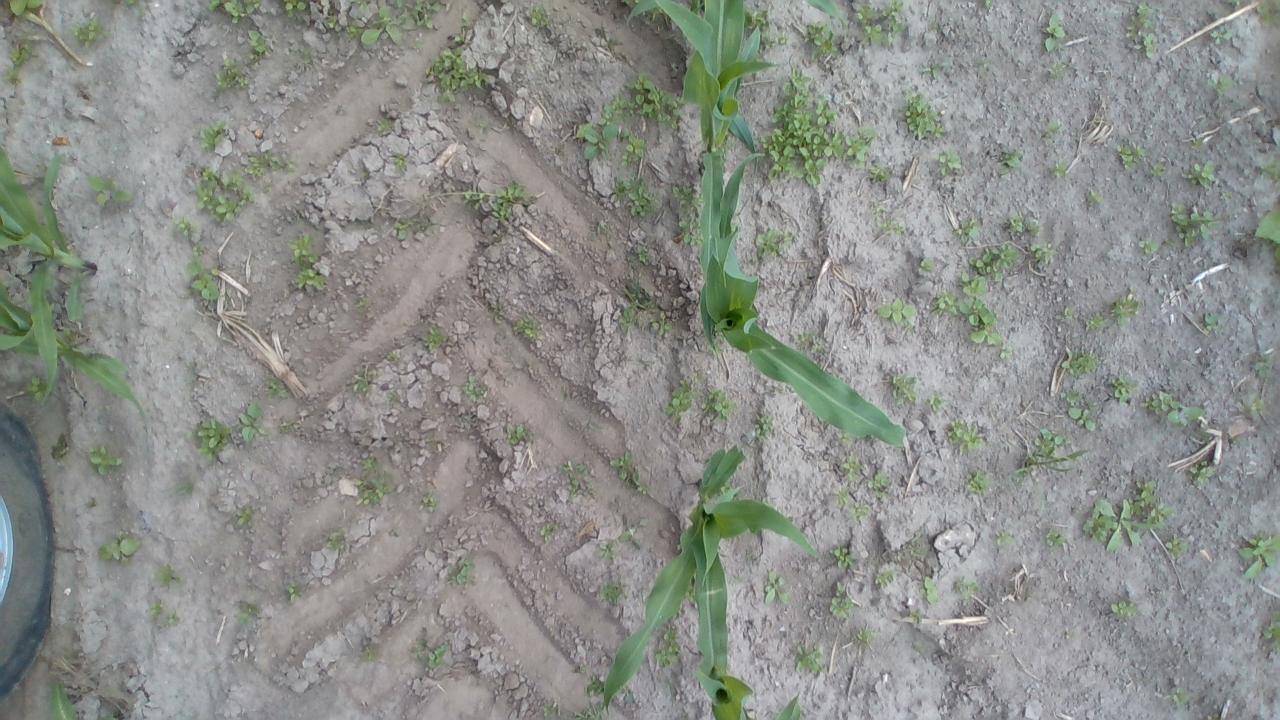Maize: (701, 146, 914, 454), (588, 443, 822, 720), (621, 1, 774, 362), (0, 138, 98, 395), (0, 286, 155, 432), (688, 657, 823, 720), (41, 680, 93, 720)
Weeds: (754, 66, 872, 184), (1084, 473, 1174, 552), (934, 274, 1018, 356), (316, 0, 443, 49), (576, 91, 650, 168), (424, 42, 496, 104), (1009, 426, 1088, 479), (456, 175, 540, 222), (193, 165, 257, 225), (626, 72, 682, 134), (618, 284, 675, 344), (846, 0, 911, 51), (348, 452, 403, 510), (966, 234, 1022, 288), (1164, 198, 1220, 251), (284, 234, 330, 296), (800, 16, 854, 68), (608, 172, 662, 224), (1146, 388, 1212, 430), (212, 59, 268, 108), (1127, 1, 1169, 66), (666, 180, 702, 250), (900, 92, 947, 142), (608, 450, 654, 501), (739, 7, 790, 52), (535, 696, 627, 720), (1238, 530, 1280, 580), (94, 528, 144, 569), (84, 174, 136, 212), (663, 376, 702, 426), (750, 222, 796, 264), (191, 418, 235, 461), (243, 150, 298, 184), (188, 258, 225, 308), (1252, 200, 1280, 266), (943, 415, 990, 454), (882, 370, 924, 413), (1062, 388, 1100, 435), (2, 38, 38, 87), (232, 400, 268, 448), (409, 637, 456, 673), (556, 457, 597, 498), (701, 384, 741, 426), (1055, 347, 1101, 382), (790, 640, 830, 680), (197, 120, 239, 158), (202, 0, 268, 24), (1177, 160, 1222, 195), (886, 534, 934, 566), (68, 12, 110, 48), (415, 323, 455, 360), (1036, 13, 1070, 56), (826, 580, 860, 622), (870, 204, 910, 239), (1244, 347, 1280, 385), (649, 628, 681, 670), (90, 446, 129, 480), (878, 294, 919, 326), (990, 146, 1026, 182), (1004, 212, 1046, 242), (1038, 113, 1070, 152), (744, 413, 784, 444), (1206, 17, 1240, 53), (322, 526, 358, 560), (505, 314, 545, 344), (1026, 240, 1059, 276), (446, 556, 479, 592), (761, 568, 790, 608), (1130, 232, 1178, 256), (392, 213, 434, 240), (935, 144, 966, 180), (246, 30, 277, 66), (1108, 295, 1141, 328), (1112, 141, 1144, 175), (962, 463, 992, 499), (798, 329, 830, 362), (1140, 150, 1171, 184), (1042, 58, 1076, 88), (260, 374, 294, 404), (618, 516, 646, 552), (1108, 374, 1140, 405), (618, 241, 650, 272), (349, 366, 376, 402), (865, 467, 894, 500), (1186, 456, 1216, 487), (463, 373, 493, 404), (502, 420, 531, 452), (1260, 610, 1280, 656), (954, 575, 983, 606), (828, 545, 862, 571), (598, 578, 627, 608), (951, 214, 982, 242), (28, 373, 56, 404), (1204, 74, 1233, 102), (919, 60, 947, 88), (416, 490, 445, 517), (1163, 684, 1197, 707), (924, 388, 950, 418), (288, 46, 318, 72), (539, 514, 563, 546), (234, 601, 262, 628), (849, 622, 877, 649), (526, 2, 552, 31), (839, 456, 865, 485), (472, 114, 497, 144), (280, 0, 314, 22), (152, 564, 184, 587), (232, 505, 259, 532), (1242, 393, 1269, 420), (1254, 0, 1280, 28), (582, 672, 608, 699), (1257, 154, 1280, 184), (867, 158, 892, 185), (1040, 526, 1068, 550), (920, 575, 940, 608), (1182, 135, 1208, 160), (849, 502, 874, 528), (870, 566, 896, 591), (992, 526, 1020, 549), (1078, 312, 1110, 332), (1112, 598, 1144, 618), (1047, 155, 1072, 180), (171, 216, 196, 241), (284, 581, 310, 605), (384, 383, 407, 409), (831, 484, 852, 512), (486, 300, 510, 323), (915, 255, 941, 276), (371, 117, 397, 138), (348, 294, 372, 316), (382, 344, 403, 369), (1164, 532, 1186, 555), (1084, 187, 1106, 209), (275, 418, 297, 440), (1200, 310, 1221, 333), (390, 152, 410, 176), (190, 241, 212, 262), (385, 526, 409, 545), (146, 600, 167, 620), (361, 643, 382, 662), (590, 219, 610, 238), (833, 429, 853, 448), (164, 608, 182, 628), (978, 0, 1002, 13), (594, 540, 612, 557), (909, 612, 926, 628), (1060, 304, 1073, 322)
